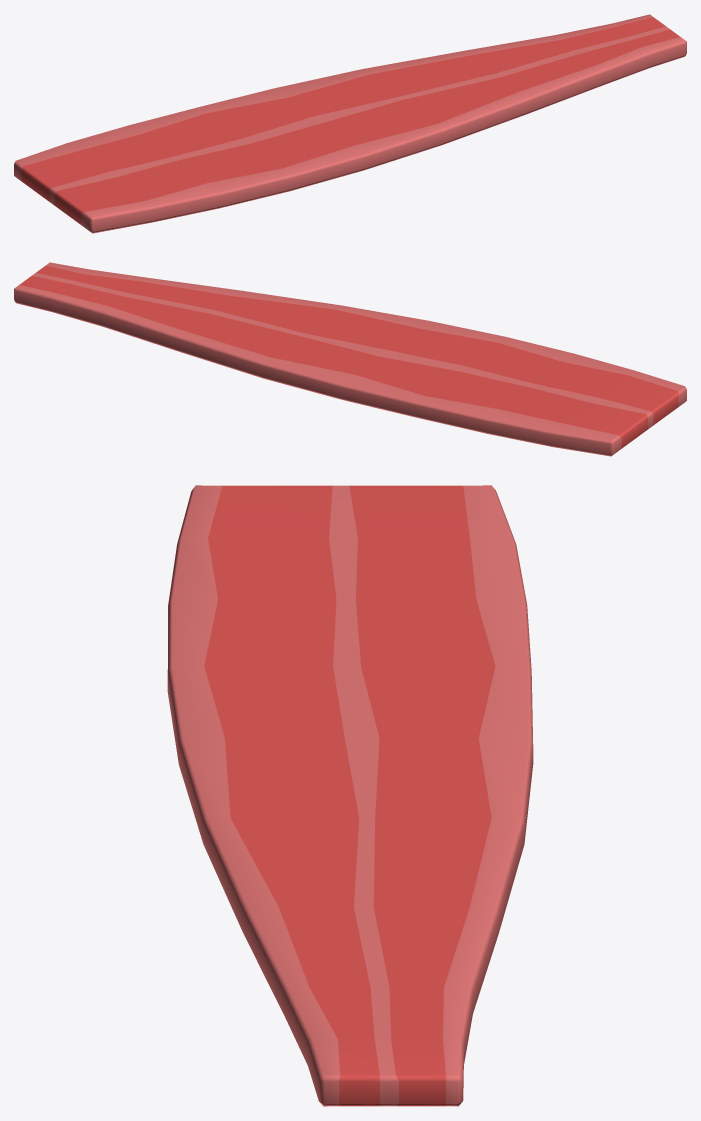
Rendered from Anchovy_1_Fillet_2.fbx.
3 renders of one model, top to bottom at view 1: azimuth 30°, elevation 25°; view 2: azimuth 150°, elevation 25°; view 3: azimuth 270°, elevation 25°, orthographic. The views are drawn at different scales.
Parts seen in each view (by area): view 1: Anchovy_1_Fillet_2; view 2: Anchovy_1_Fillet_2; view 3: Anchovy_1_Fillet_2.
Boxes of the visible parts, x1,y1,x2,y2 form: Anchovy_1_Fillet_2: (14,14,686,233); Anchovy_1_Fillet_2: (14,262,686,456); Anchovy_1_Fillet_2: (167,485,533,1106).
Bounding box in the file's own units: 13.04 × 0.329 × 3.39.
